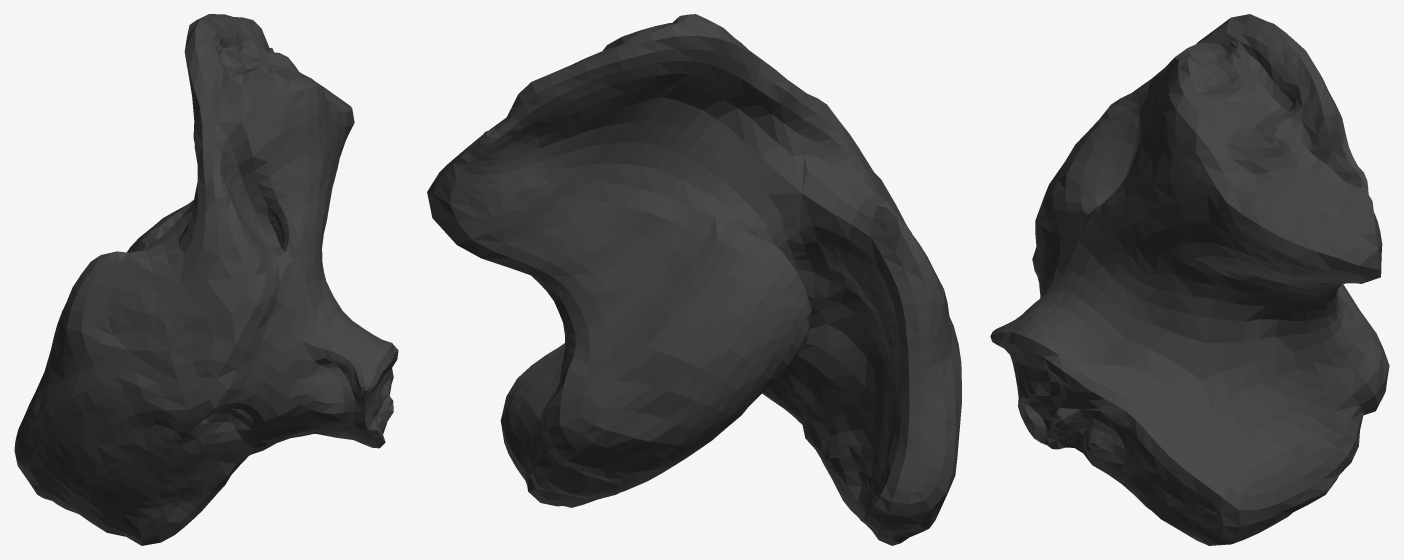
File: Exoccipital_R.glb
3 views of the same model, side by side, from view 1: azimuth 30°, elevation 25°; view 2: azimuth 150°, elevation 25°; view 3: azimuth 270°, elevation 25° (orthographic). The views are drawn at different scales.
Visible parts, largest first — view 1: Exoccipital_R; view 2: Exoccipital_R; view 3: Exoccipital_R.
Part boxes in pixels (box(x1,y1,x2,y2)): Exoccipital_R: box(14, 14, 398, 545); Exoccipital_R: box(427, 14, 961, 545); Exoccipital_R: box(990, 14, 1389, 545).
Size of the model in its own units: 150 by 171 by 131.
1 material, 1 textured.
